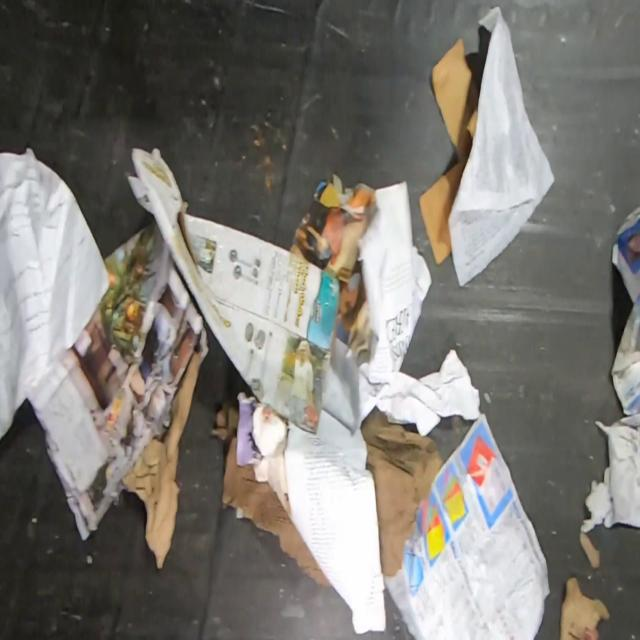cardboard: (127, 147, 343, 435), (209, 365, 327, 583), (360, 407, 443, 576), (420, 35, 481, 262)
